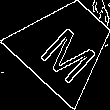M_NE: (31, 11, 100, 80)
